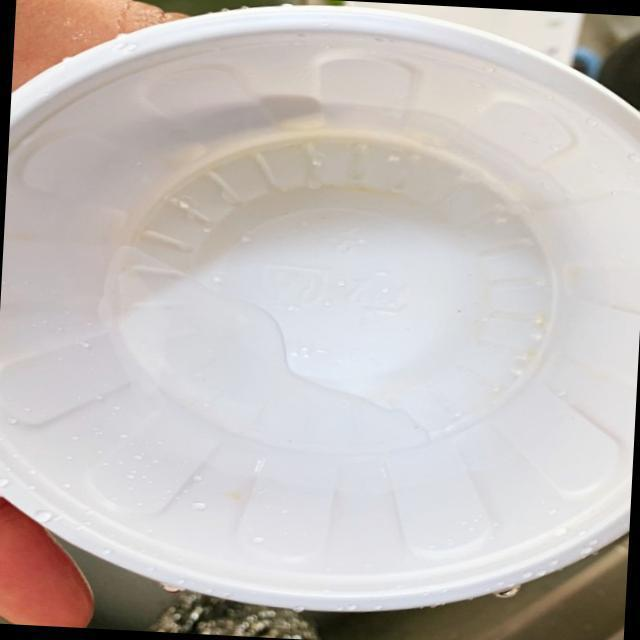disposable: (7, 1, 640, 614)
